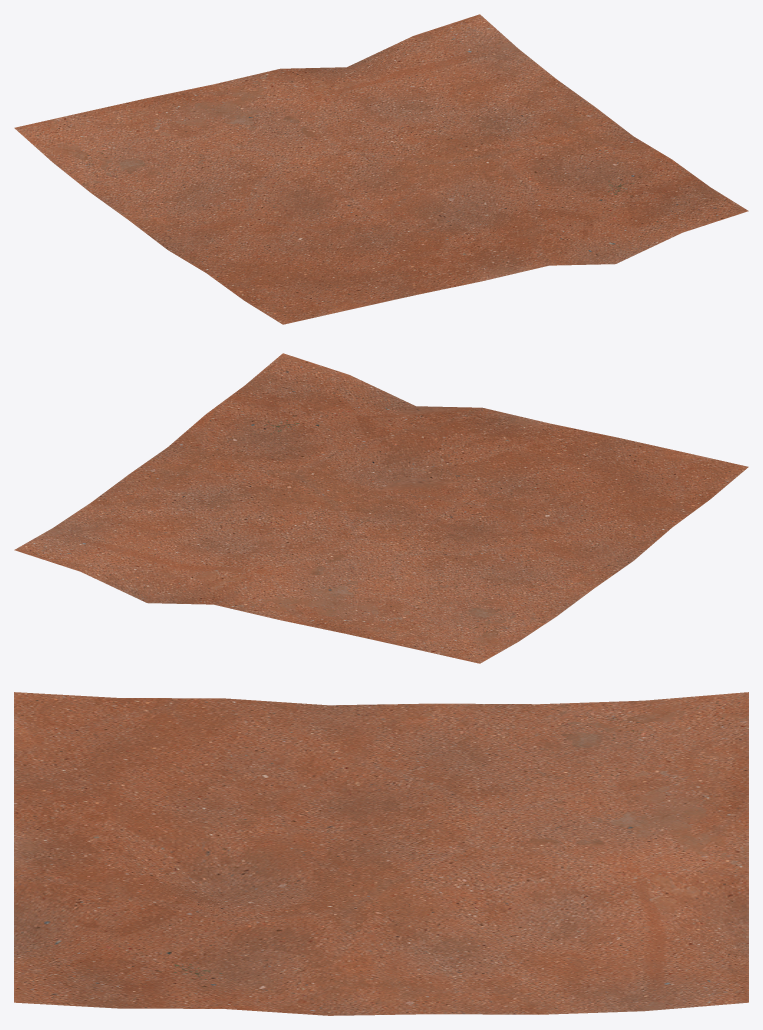
Rendered from Ground_flat_01_M01_LOD2.fbx.
The picture shows the model from 3 angles, top to bottom: view 1: azimuth 30°, elevation 25°; view 2: azimuth 150°, elevation 25°; view 3: azimuth 270°, elevation 25°; orthographic projection. The views are drawn at different scales.
Visible parts, largest first — view 1: Ground_flat_01_M01_LOD2; view 2: Ground_flat_01_M01_LOD2; view 3: Ground_flat_01_M01_LOD2.
Part boxes in pixels (<box>): Ground_flat_01_M01_LOD2: <box>14,14,748,324</box>; Ground_flat_01_M01_LOD2: <box>14,353,748,663</box>; Ground_flat_01_M01_LOD2: <box>14,692,748,1015</box>.
Size of the model in its own units: 2000 by 87.84 by 2000.
